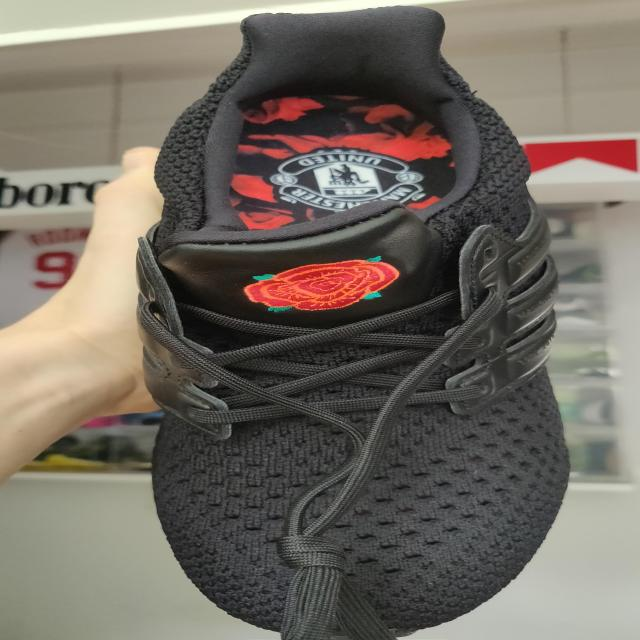shoes: (126, 5, 582, 639)
